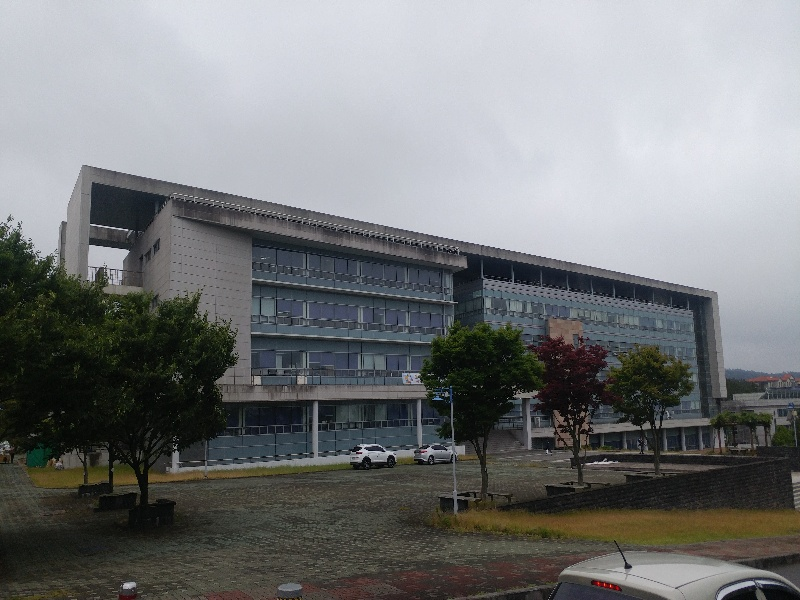Engineering College Building 4: (67, 185, 729, 449), (160, 208, 458, 446), (485, 256, 716, 440)
